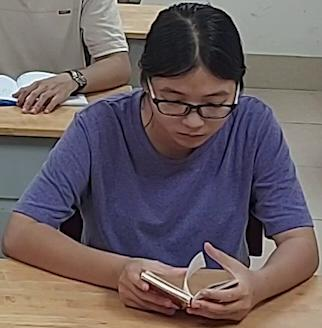Reading: (10, 5, 317, 320)
